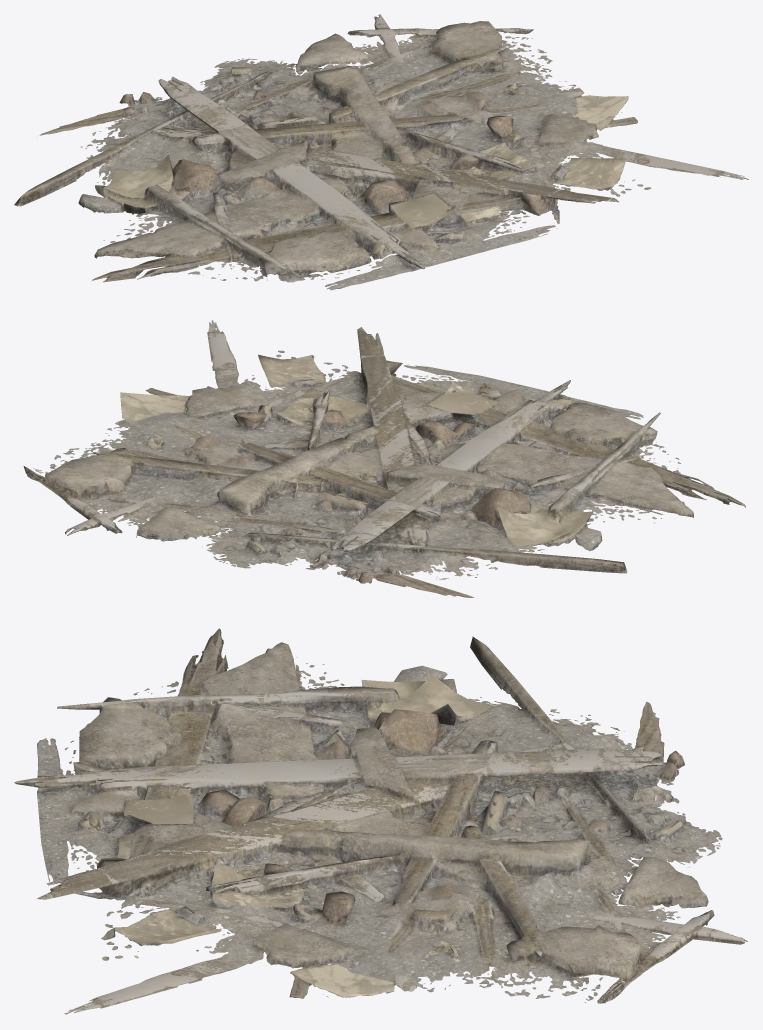
Rendered from lenha.glb.
3 views of the same model, one above another, from view 1: azimuth 30°, elevation 25°; view 2: azimuth 150°, elevation 25°; view 3: azimuth 270°, elevation 25° (orthographic). The views are drawn at different scales.
Parts seen in each view (by area): view 1: models\props\broken_wood_pile_small_1.vmdl_c.base; view 2: models\props\broken_wood_pile_small_1.vmdl_c.base; view 3: models\props\broken_wood_pile_small_1.vmdl_c.base.
Part boxes in pixels (x1=…): models\props\broken_wood_pile_small_1.vmdl_c.base: x1=14, y1=14, x2=748, y2=290; models\props\broken_wood_pile_small_1.vmdl_c.base: x1=23, y1=320, x2=745, y2=598; models\props\broken_wood_pile_small_1.vmdl_c.base: x1=14, y1=628, x2=747, y2=1014.
Size of the model in its own units: 1.54 by 0.0611 by 1.24.
1 material, 1 textured.
